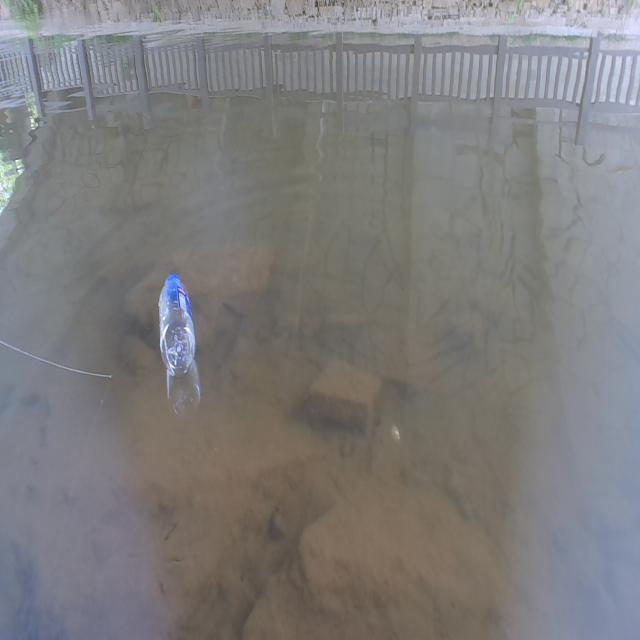Bottle: (156, 266, 197, 376)
